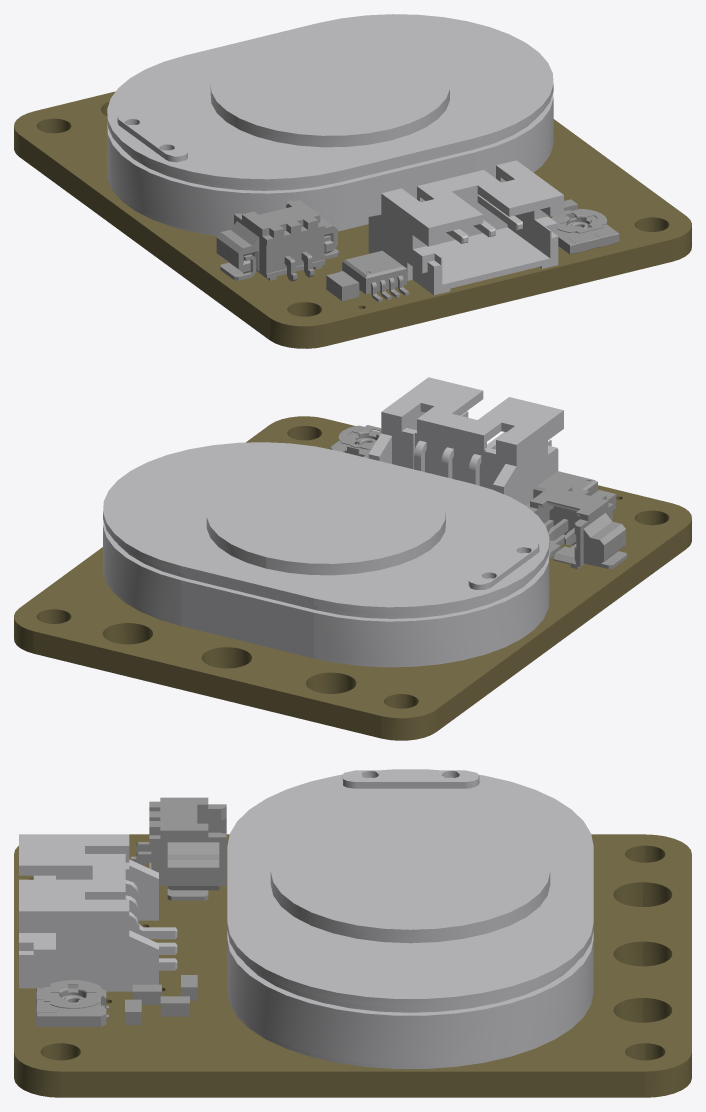
The model's file is ada-3885.glb.
3 views of the same model, one above another, from view 1: azimuth 30°, elevation 25°; view 2: azimuth 150°, elevation 25°; view 3: azimuth 270°, elevation 25° (orthographic). The views are drawn at different scales.
Visible parts, largest first — view 1: 0.5833333333333334_0.5833333333333334_0.5833333333333334_0.8, 0.16666666666666666_0.16666666666666666_0.08333333333333333_, 0.3333333333333333_0.3333333333333333_0.3333333333333333_0; view 2: 0.5833333333333334_0.5833333333333334_0.5833333333333334_0.8, 0.16666666666666666_0.16666666666666666_0.08333333333333333_, 0.3333333333333333_0.3333333333333333_0.3333333333333333_0; view 3: 0.5833333333333334_0.5833333333333334_0.5833333333333334_0.8, 0.16666666666666666_0.16666666666666666_0.08333333333333333_, 0.3333333333333333_0.3333333333333333_0.3333333333333333_0.
Boxes of the visible parts, x1,y1,x2,y2 form: 0.5833333333333334_0.5833333333333334_0.5833333333333334_0.8: (107, 14, 563, 295); 0.16666666666666666_0.16666666666666666_0.08333333333333333_: (14, 91, 691, 348); 0.3333333333333333_0.3333333333333333_0.3333333333333333_0: (216, 199, 619, 302); 0.5833333333333334_0.5833333333333334_0.5833333333333334_0.8: (103, 377, 563, 667); 0.16666666666666666_0.16666666666666666_0.08333333333333333_: (14, 416, 691, 740); 0.3333333333333333_0.3333333333333333_0.3333333333333333_0: (330, 425, 627, 568); 0.5833333333333334_0.5833333333333334_0.5833333333333334_0.8: (19, 769, 593, 1068); 0.16666666666666666_0.16666666666666666_0.08333333333333333_: (14, 834, 691, 1097); 0.3333333333333333_0.3333333333333333_0.3333333333333333_0: (36, 797, 226, 1026).
Size of the model in its own units: 3.05 by 0.657 by 3.68.
